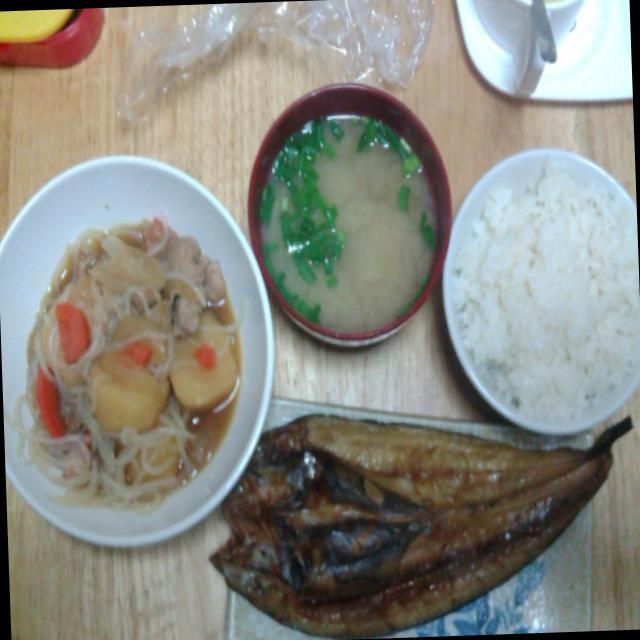Rice: (445, 162, 640, 418)
